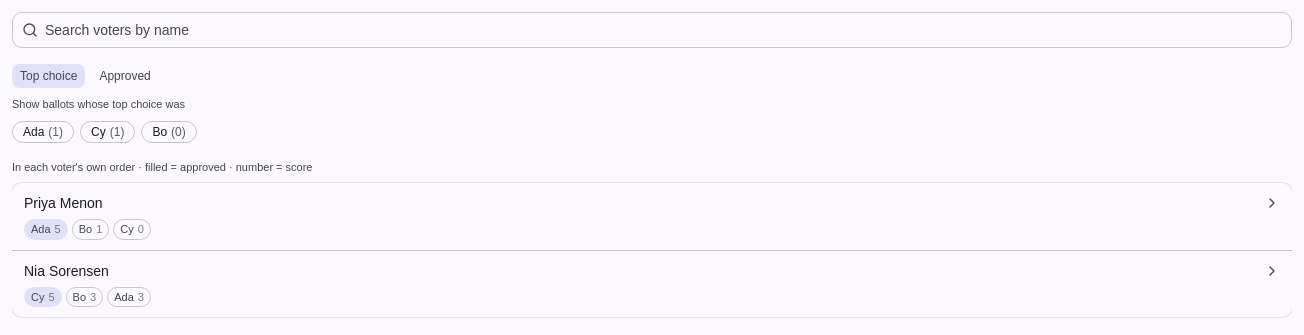
Test: BallotPicker filters › matches voters by name
Type "nia" into the search field at (652, 30), box [12, 12, 1292, 48]
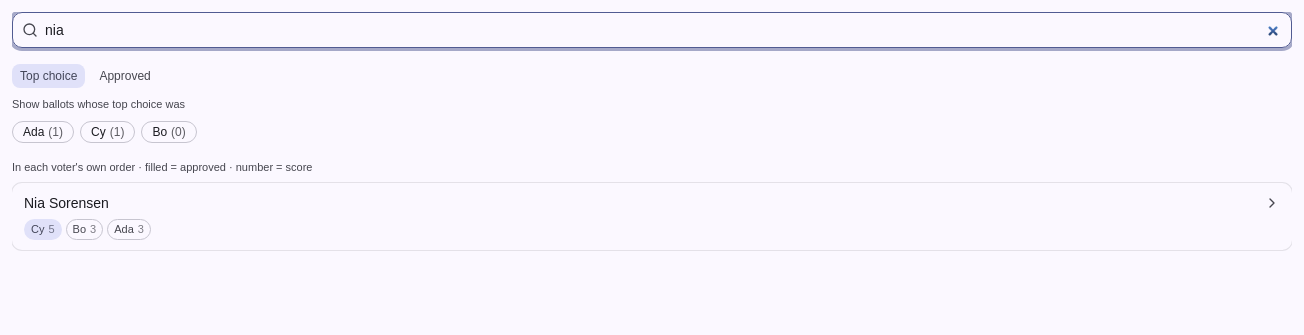
expect the button "Nia Sorensen" is shown: met, box [24, 193, 1256, 213]
expect the button "Priya Menon" is gone: met
